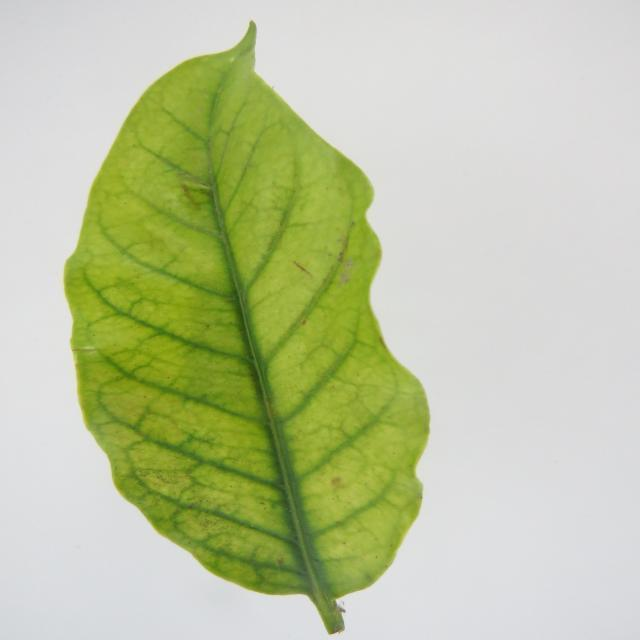DeficienciaNutricional-Magnesio: (65, 25, 428, 634)
